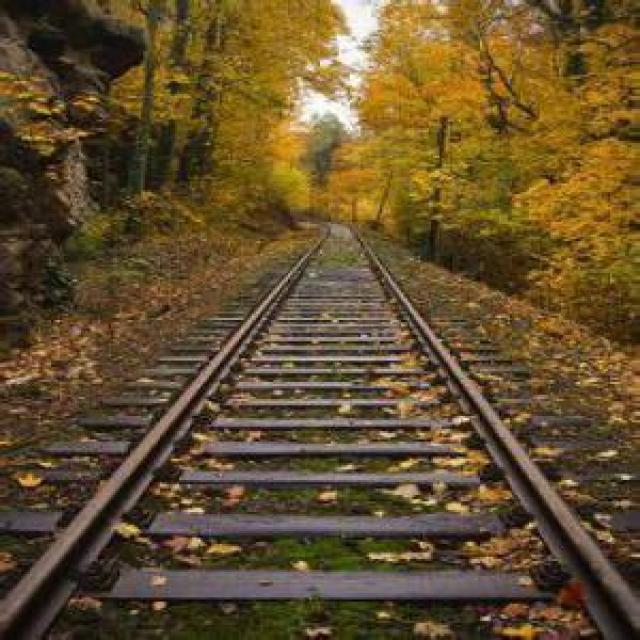rail: (0, 218, 640, 640)
